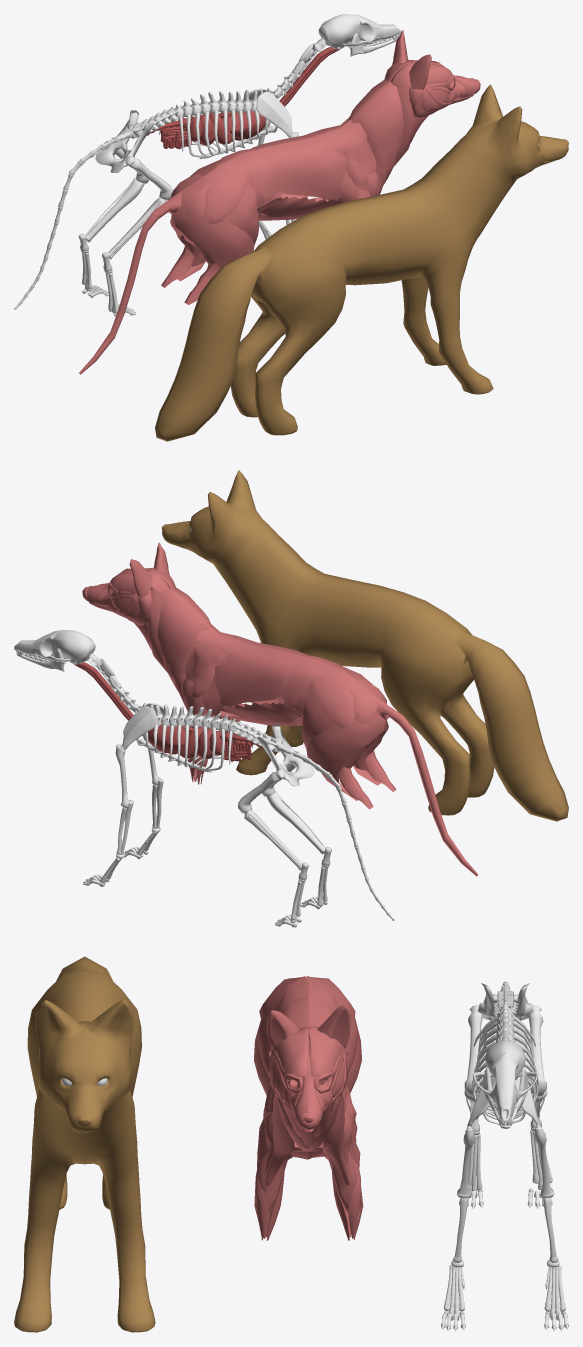
Rendered from Fox Model (Displayed).fbx.
The picture shows the model from 3 angles, top to bottom: view 1: azimuth 30°, elevation 25°; view 2: azimuth 150°, elevation 25°; view 3: azimuth 270°, elevation 25°; orthographic projection. The views are drawn at different scales.
Visible parts, largest first — view 1: polySurface18_e_64_5, polySurface502, polySurface104, polySurface530; view 2: polySurface18_e_64_5, polySurface502, polySurface104, polySurface530; view 3: polySurface18_e_64_5, polySurface502, polySurface104.
Boxes of the visible parts, box(x1,y1,x2,y2) form: polySurface18_e_64_5: box(155, 84, 568, 441); polySurface502: box(79, 30, 480, 374); polySurface104: box(14, 14, 401, 316); polySurface530: box(147, 47, 343, 149); polySurface18_e_64_5: box(161, 470, 568, 821); polySurface502: box(82, 542, 478, 876); polySurface104: box(14, 630, 394, 927); polySurface530: box(70, 662, 264, 761); polySurface18_e_64_5: box(14, 956, 155, 1332); polySurface502: box(254, 976, 363, 1240); polySurface104: box(441, 981, 568, 1330).
Size of the model in its own units: 24.16 by 15.07 by 21.31.
